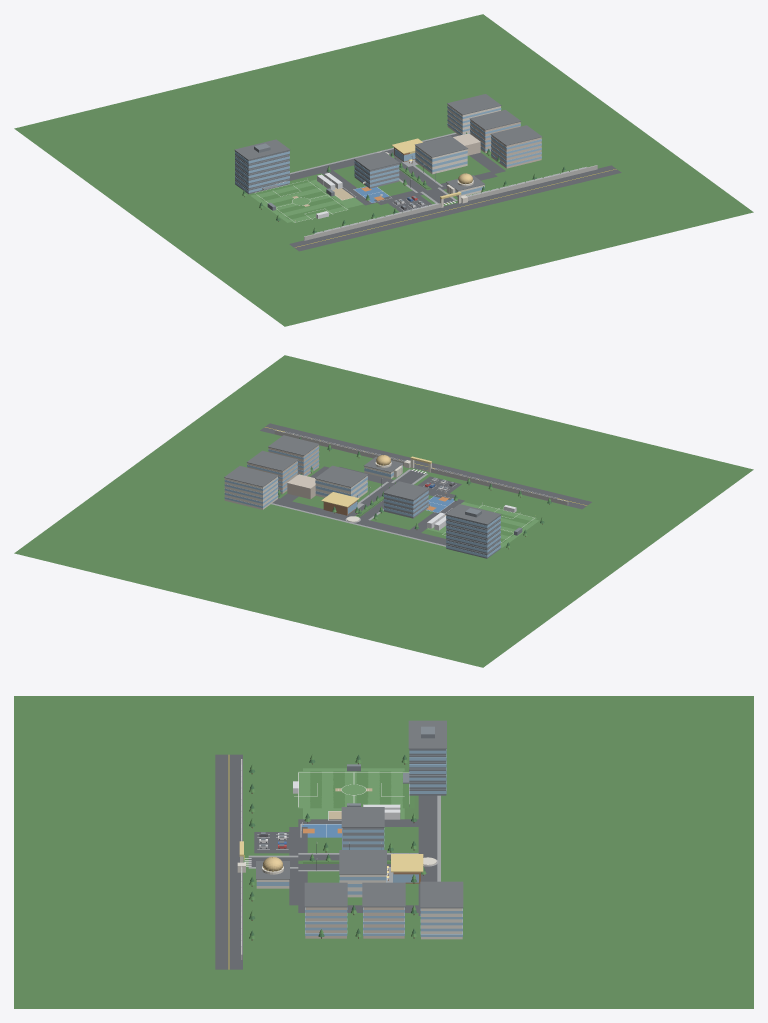
Rendered from alliance_university_campus.glb.
3 views of the same model, one above another, from view 1: azimuth 30°, elevation 25°; view 2: azimuth 150°, elevation 25°; view 3: azimuth 270°, elevation 25° (orthographic). The views are drawn at different scales.
Visible parts, largest first — view 1: Alliance_Campus_Master_Ground, Senior_City_Road, Mens_Hostel_Hall_of_Residence_1, MBA_Roof_Deck, Perimeter_Wall_West, Cube.082, Perimeter_Wall_East, Cube.076, Cube.070, Alliance_School_of_Business_MBA, Central_Library_Building, Road_Academic_East_West (+1 smaller); view 2: Alliance_Campus_Master_Ground, Senior_City_Road, Road_Academic_East_West, Womens_Hostel_Hall_of_Residence, MBA_Roof_Deck, Cube.082, Perimeter_Wall_West, Cube.070, Cube.076, Central_Hostel_Mess_Dining, Central_Library_Building, BTech_Roof_Deck; view 3: Alliance_Campus_Master_Ground, Senior_City_Road, Road_Academic_East_West, Cube.082, MBA_Roof_Deck, Cube.076, Cube.070, BTech_Roof_Deck, Library_Roof_Deck, Mens_Hostel_Hall_of_Residence_2, Womens_Hostel_Hall_of_Residence, Mens_Hostel_Hall_of_Residence_1 (+6 smaller).
Boxes of the visible parts, left/top/right/bottom form: Alliance_Campus_Master_Ground: left=14, top=14, right=753, bottom=326; Senior_City_Road: left=289, top=165, right=621, bottom=251; Mens_Hostel_Hall_of_Residence_1: left=491, top=135, right=541, bottom=168; MBA_Roof_Deck: left=415, top=136, right=467, bottom=157; Perimeter_Wall_West: left=304, top=203, right=440, bottom=240; Cube.082: left=447, top=94, right=501, bottom=115; Perimeter_Wall_East: left=461, top=165, right=597, bottom=202; Cube.076: left=469, top=109, right=521, bottom=130; Cube.070: left=490, top=125, right=542, bottom=145; Alliance_School_of_Business_MBA: left=415, top=146, right=467, bottom=174; Central_Library_Building: left=354, top=160, right=399, bottom=188; Road_Academic_East_West: left=289, top=133, right=458, bottom=180; Alliance_Campus_Master_Ground: left=14, top=355, right=753, bottom=667; Senior_City_Road: left=260, top=423, right=591, bottom=509; Road_Academic_East_West: left=272, top=498, right=446, bottom=545; Womens_Hostel_Hall_of_Residence: left=224, top=476, right=277, bottom=509; MBA_Roof_Deck: left=315, top=465, right=368, bottom=487; Cube.082: left=224, top=466, right=278, bottom=487; Perimeter_Wall_West: left=431, top=468, right=568, bottom=505; Cube.070: left=268, top=435, right=319, bottom=455; Cube.076: left=246, top=450, right=298, bottom=471; Central_Hostel_Mess_Dining: left=287, top=474, right=315, bottom=499; Central_Library_Building: left=384, top=489, right=428, bottom=518; BTech_Roof_Deck: left=445, top=504, right=501, bottom=524; Alliance_Campus_Master_Ground: left=14, top=696, right=753, bottom=1008; Senior_City_Road: left=215, top=754, right=242, bottom=969; Road_Academic_East_West: left=418, top=795, right=437, bottom=915; Cube.082: left=420, top=881, right=463, bottom=908; MBA_Roof_Deck: left=339, top=850, right=386, bottom=874; Cube.076: left=362, top=882, right=405, bottom=907; Cube.070: left=304, top=882, right=347, bottom=907; BTech_Roof_Deck: left=408, top=720, right=446, bottom=748; Library_Roof_Deck: left=341, top=807, right=384, bottom=827; Mens_Hostel_Hall_of_Residence_2: left=363, top=907, right=404, bottom=938; Womens_Hostel_Hall_of_Residence: left=421, top=908, right=462, bottom=939; Mens_Hostel_Hall_of_Residence_1: left=305, top=907, right=346, bottom=938.
Size of the model in its own units: 320 by 24.62 by 320.
